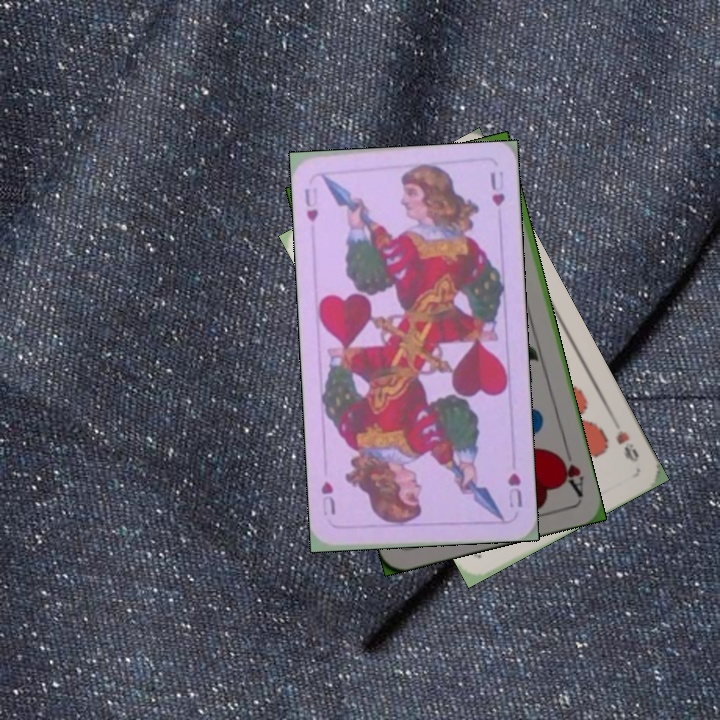H9: (611, 426, 642, 465)
HA: (553, 441, 587, 499)
HU: (503, 469, 525, 511), (300, 183, 321, 224)
